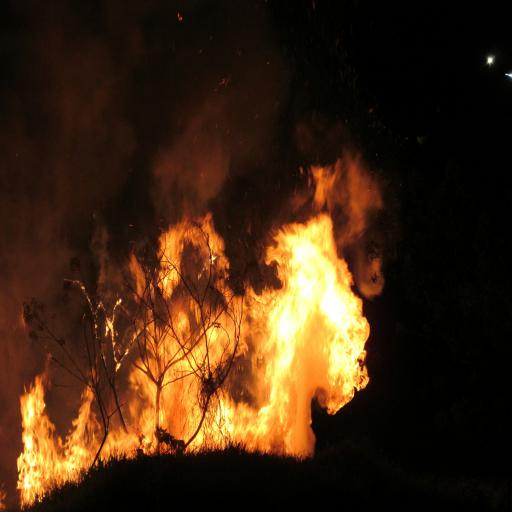wildfire: (4, 25, 512, 512)
